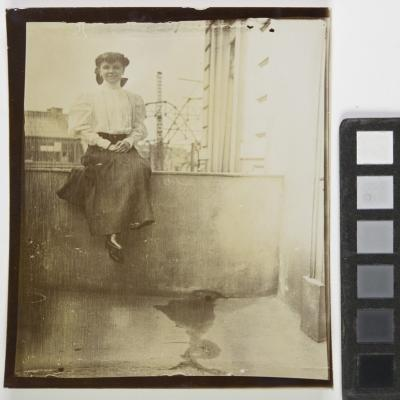photos_negatives: (10, 8, 335, 390)
